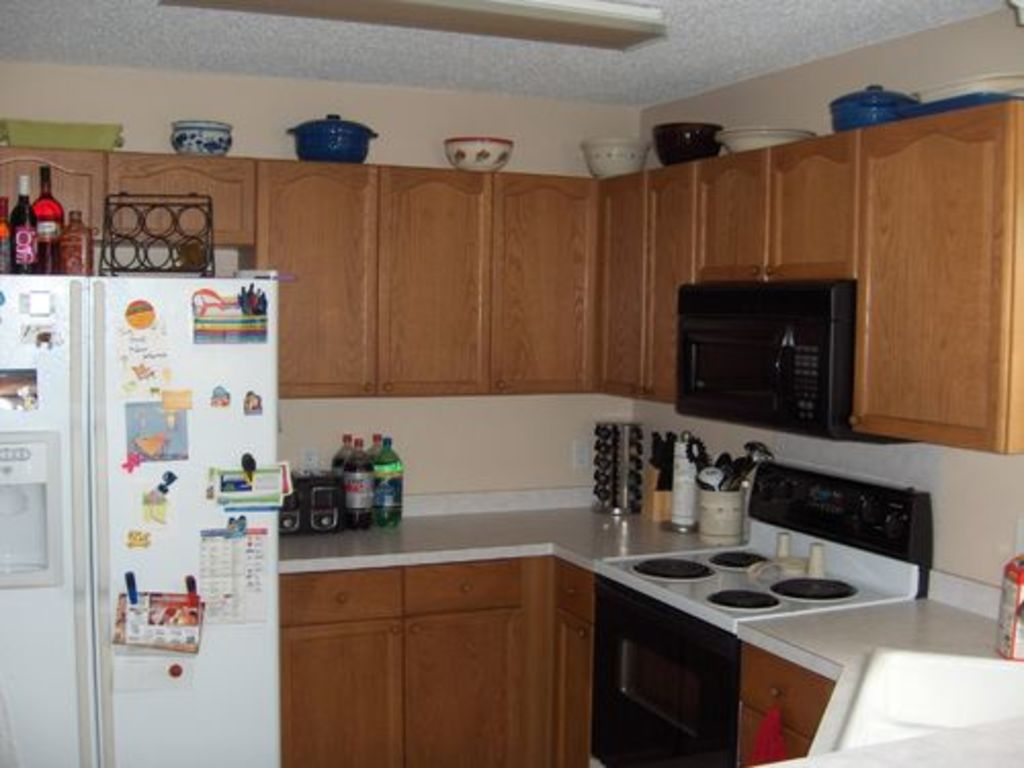cabinet door: (863, 139, 999, 439), (266, 164, 370, 394), (380, 173, 486, 391), (490, 173, 594, 393), (289, 627, 402, 768), (413, 615, 516, 768), (770, 146, 855, 279), (602, 186, 649, 400), (650, 181, 690, 399), (697, 169, 765, 279), (401, 565, 522, 620), (281, 566, 403, 618), (743, 649, 823, 726), (558, 613, 589, 767), (554, 563, 594, 609)
handle: (61, 283, 94, 759), (86, 278, 115, 758), (762, 678, 790, 707), (327, 581, 354, 608), (408, 613, 423, 641), (456, 577, 476, 596), (572, 623, 589, 645), (387, 621, 404, 641), (564, 587, 579, 599)
refrigerator door: (94, 281, 275, 764), (2, 278, 89, 768)
